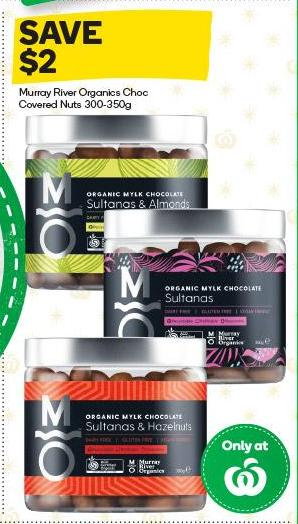description_block: (3, 84, 207, 112)
product_image_block: (13, 111, 286, 503)
promo_text_block: (7, 11, 225, 86)
